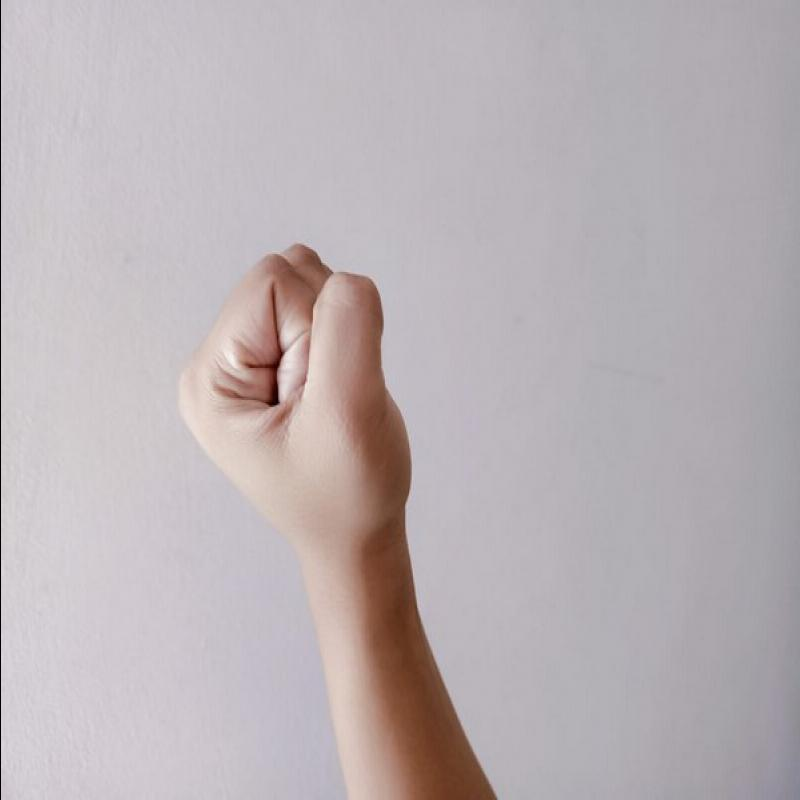Mushti: (149, 223, 432, 574)
